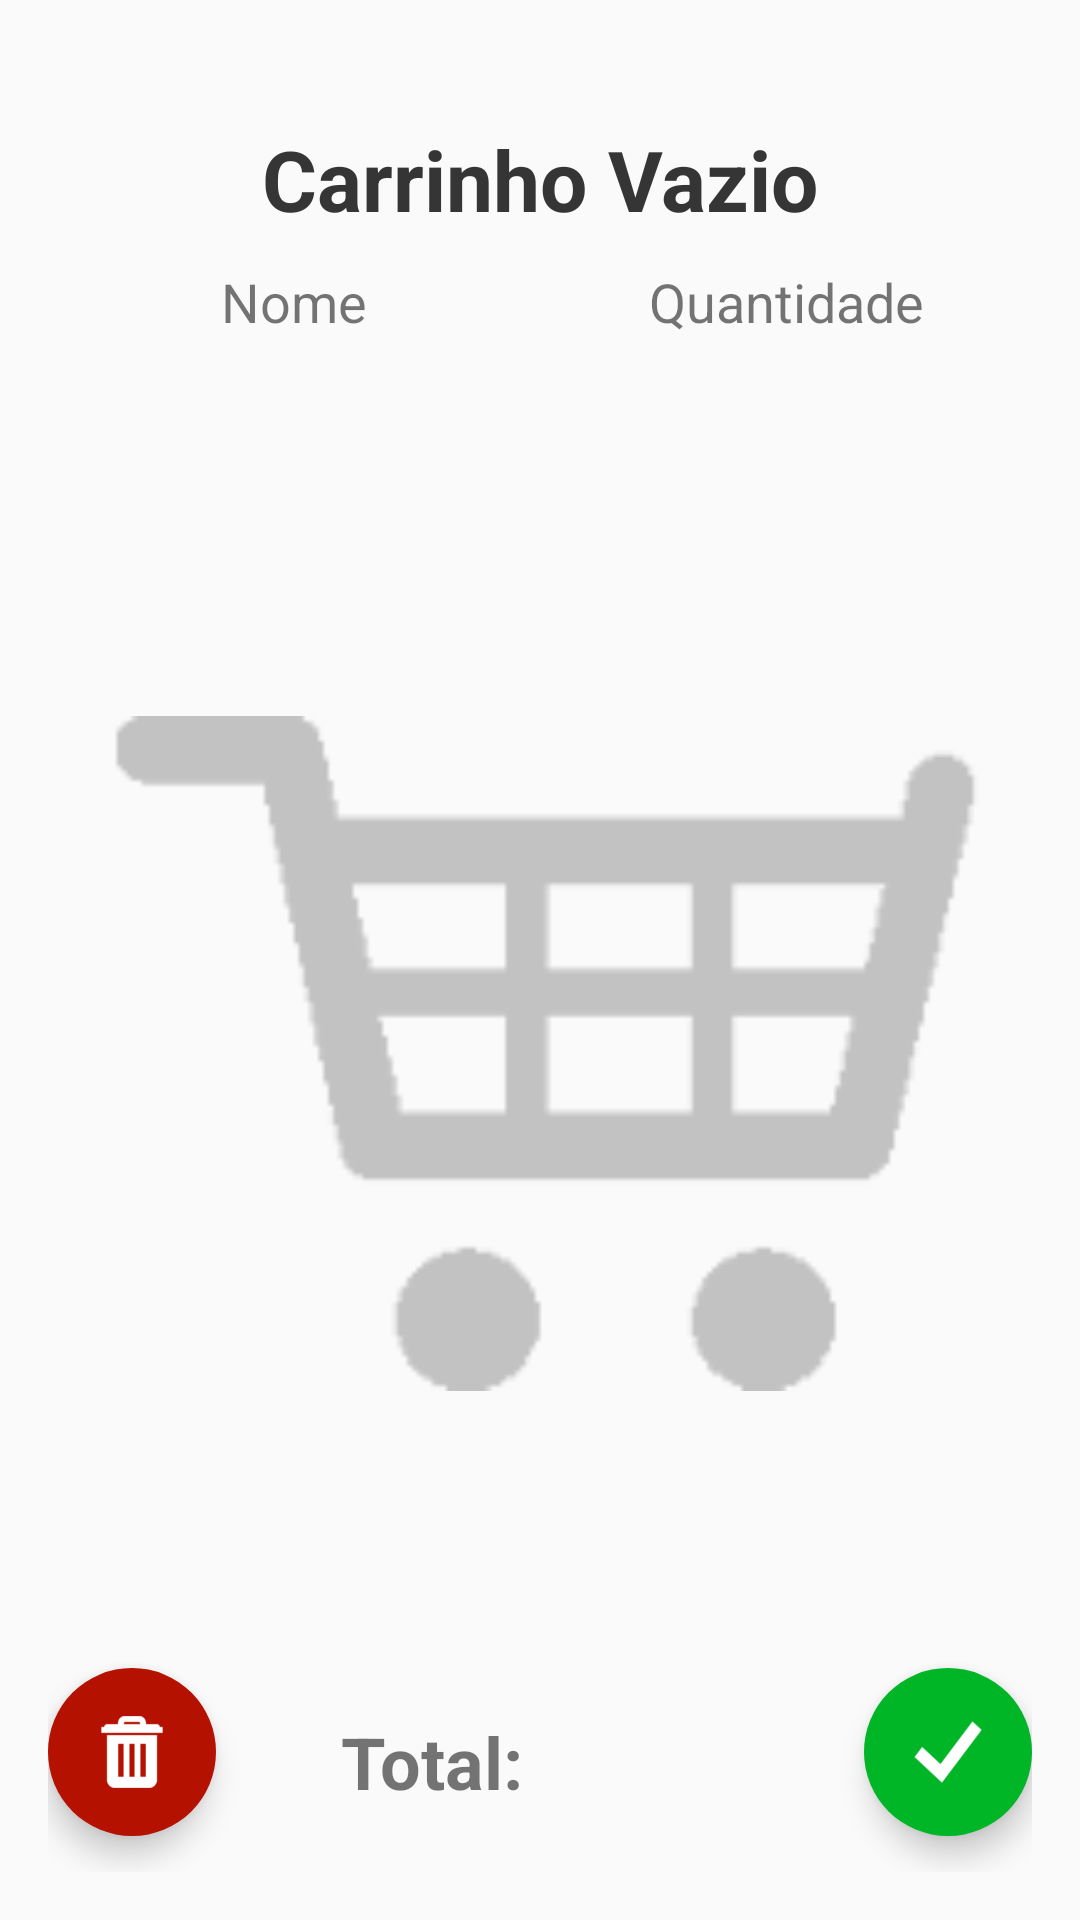

Icons on this 1080*1920 Android screen, each with its box as Rect(x1, y1, x2, y2):
fab check: Rect(864, 1668, 1032, 1836)
fab remove all: Rect(48, 1668, 216, 1836)
